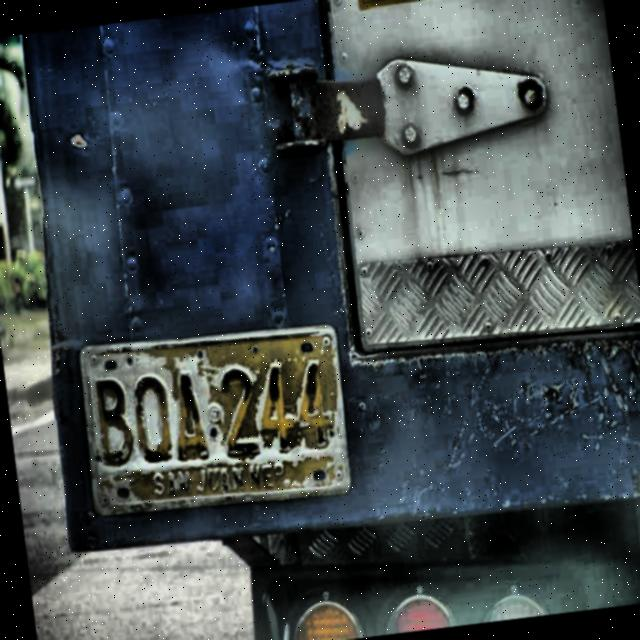plate: (78, 324, 351, 517)
